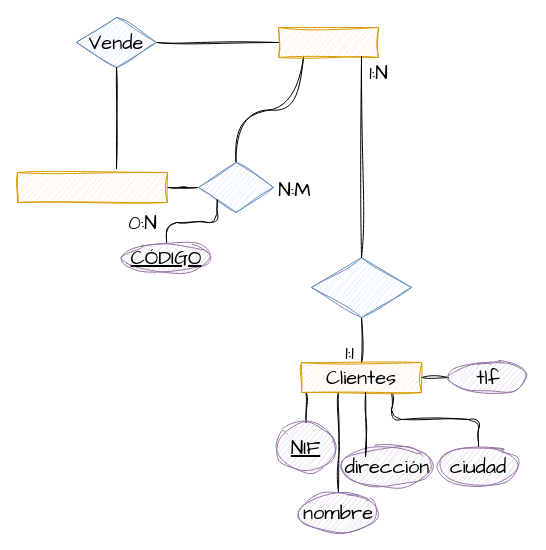
Image size: 546x550. Some labels were removed from this diagram. Each missing label, with the centre of its shape:
coches: the point at 328,42
Compran: the point at 361,287
Consecionario: the point at 92,187
Revisan: the point at 236,187
